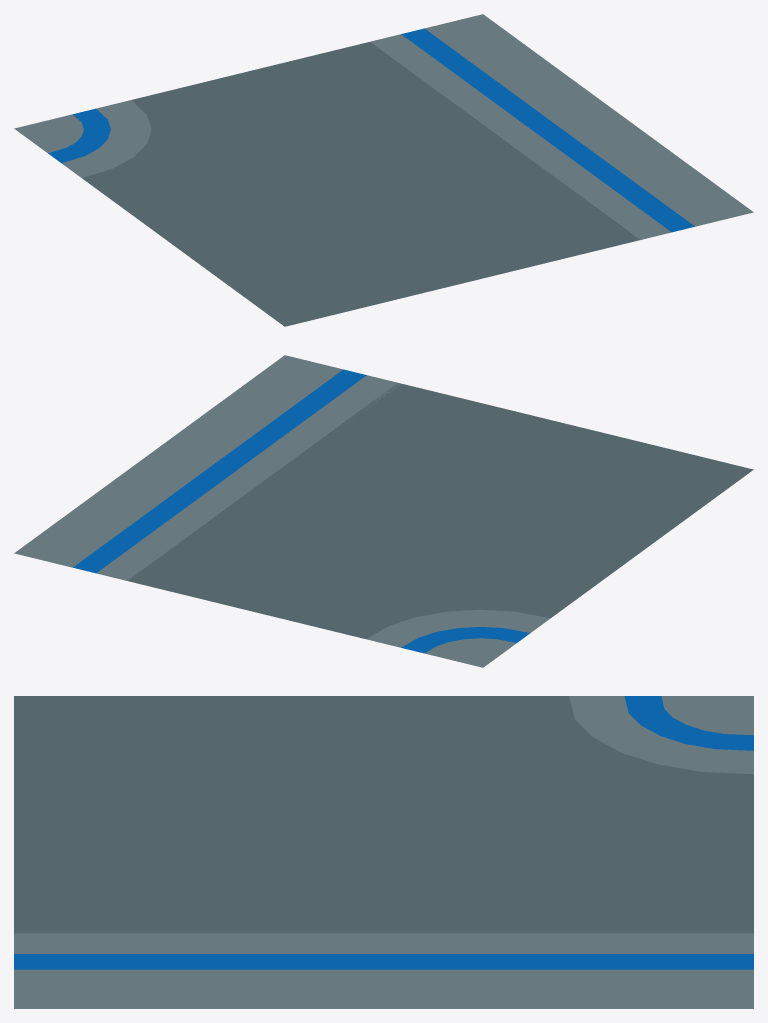
File: Ceiling_type_C_034.003.fbx
3 renders of one model, top to bottom at view 1: azimuth 30°, elevation 25°; view 2: azimuth 150°, elevation 25°; view 3: azimuth 270°, elevation 25°, orthographic. The views are drawn at different scales.
Visible parts, largest first — view 1: Ceiling_type_C_034.003; view 2: Ceiling_type_C_034.003; view 3: Ceiling_type_C_034.003.
Part boxes in pixels (<box>): Ceiling_type_C_034.003: <box>14,14,753,326</box>; Ceiling_type_C_034.003: <box>14,355,753,667</box>; Ceiling_type_C_034.003: <box>14,696,753,1008</box>.
Size of the model in its own units: 400 by 400 by 1.2.
